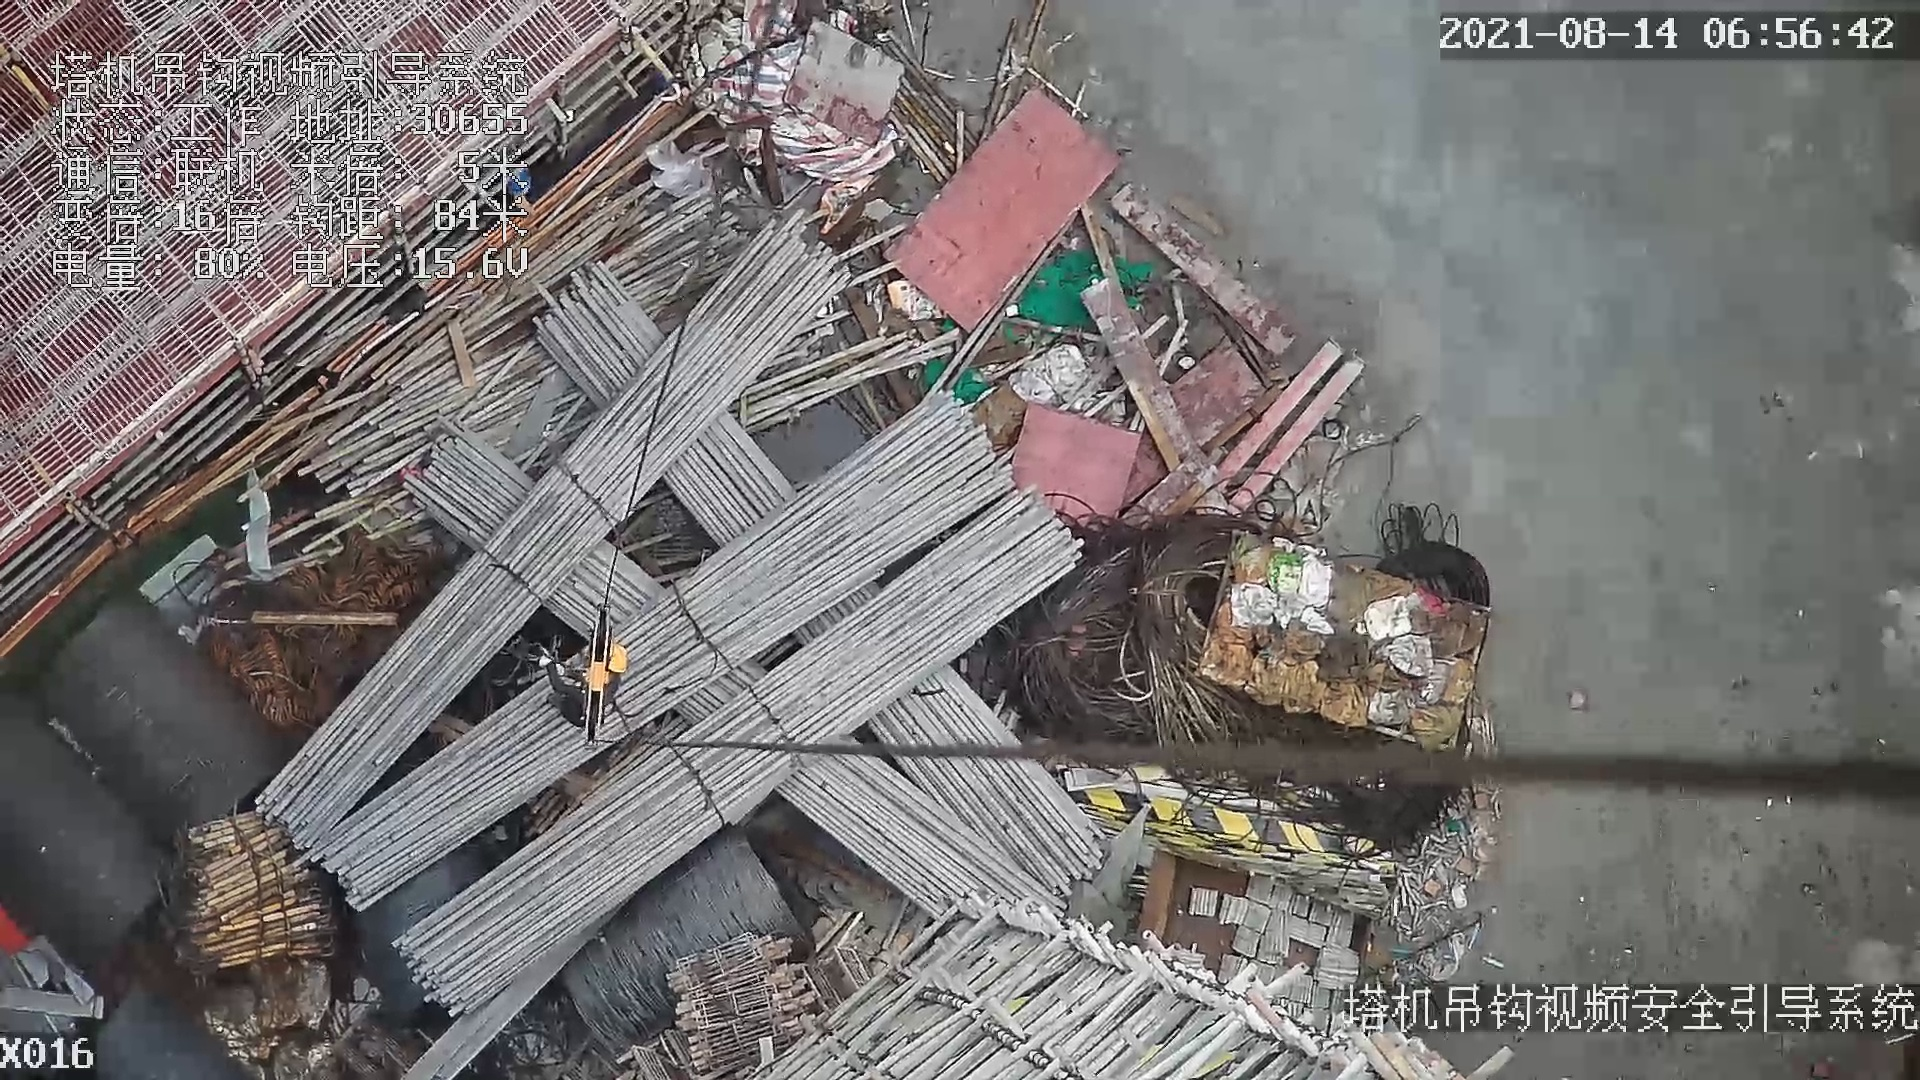helmet: (610, 645, 627, 672)
hook: (572, 604, 620, 750)
person: (544, 653, 632, 733)
rebar: (250, 211, 856, 853), (301, 385, 1020, 911), (390, 485, 1078, 1014), (862, 664, 1112, 887), (774, 737, 1065, 918)
wood: (185, 811, 338, 970)
